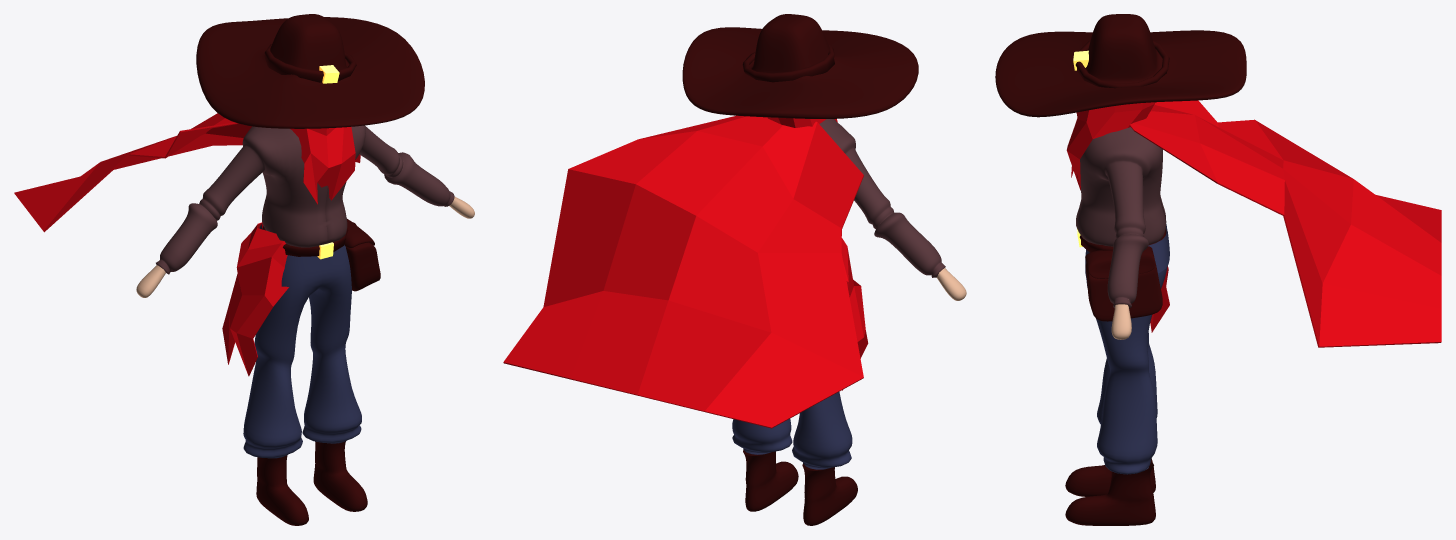
The model's file is bandit_onepiece_updated.fbx.
3 renders of one model, left to right at view 1: azimuth 30°, elevation 25°; view 2: azimuth 150°, elevation 25°; view 3: azimuth 270°, elevation 25°, orthographic.
Visible parts, largest first — view 1: Plane.005; view 2: Plane.005; view 3: Plane.005.
Boxes of the visible parts, <box> form: Plane.005: <box>14,14,474,525</box>; Plane.005: <box>503,14,966,525</box>; Plane.005: <box>995,14,1441,525</box>.
Bounding box in the file's own units: 321 × 443 × 364.
